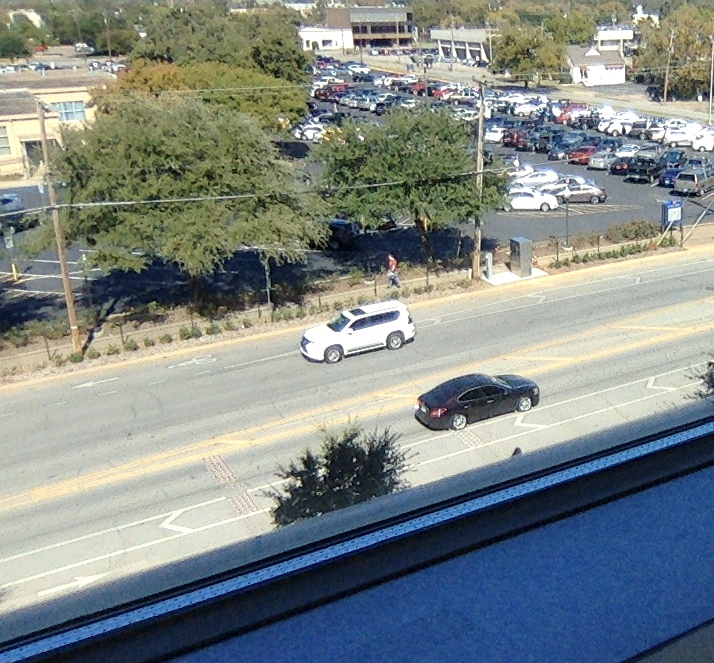car: (300, 300, 414, 363)
